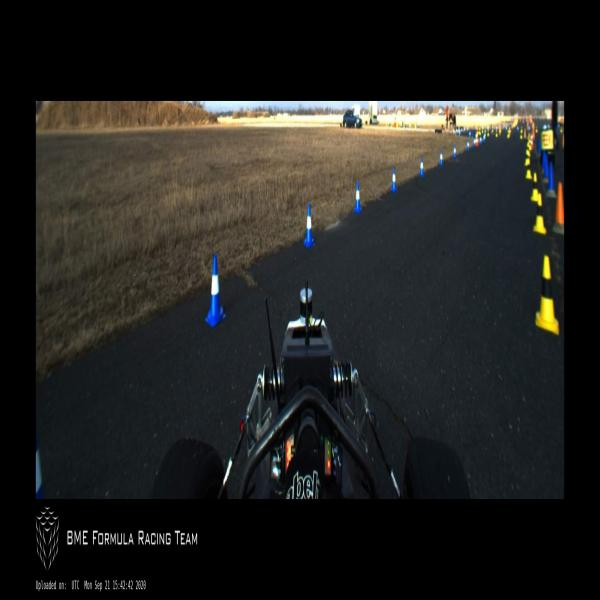blue_cone: (205, 255, 225, 327), (304, 204, 314, 247), (354, 181, 362, 213), (390, 168, 397, 192), (419, 158, 425, 177), (453, 144, 457, 159), (440, 149, 443, 167), (473, 137, 476, 148), (479, 135, 482, 145), (467, 139, 469, 151), (483, 134, 485, 143), (469, 130, 471, 138), (484, 132, 486, 139)
large_orange_cone: (531, 132, 534, 149), (476, 130, 478, 146)
unknown_cone: (554, 182, 564, 234), (547, 162, 557, 198), (540, 150, 546, 173), (544, 155, 549, 182), (537, 138, 541, 157), (471, 128, 474, 138), (524, 128, 527, 138), (499, 125, 501, 135), (509, 126, 511, 136)
yellow_cone: (535, 256, 560, 338), (533, 193, 546, 234), (531, 173, 539, 201), (526, 159, 532, 179), (526, 142, 531, 157), (525, 150, 529, 166), (529, 139, 532, 150), (478, 126, 481, 135), (487, 128, 490, 136), (495, 129, 498, 137), (520, 128, 522, 140), (482, 126, 484, 134), (507, 130, 509, 138), (484, 126, 486, 132)
